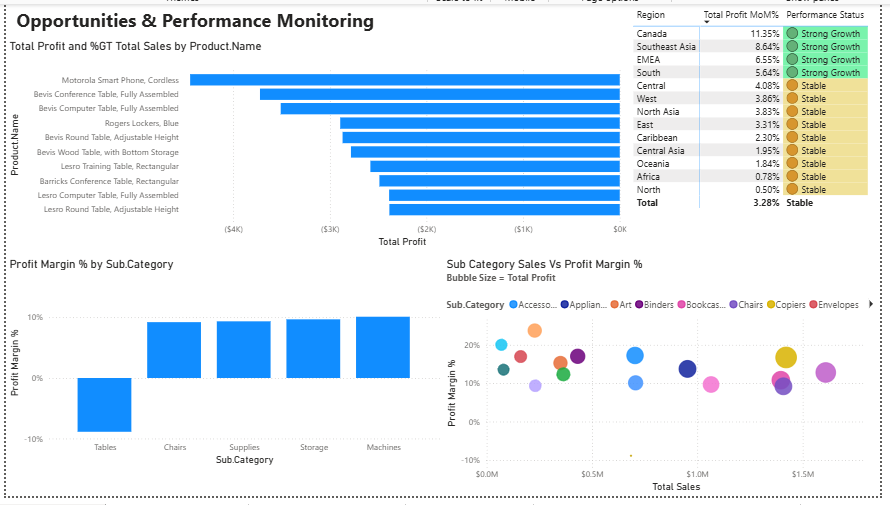

What the dashboard file says about the page in this screenshot:
{"tool":"powerbi","page":{"name":"Opportunities & Performance Monitoring","canvas":[1280,720],"ordinal":3},"visuals":[{"type":"textbox","box":[10.2,0,570.7,51.2],"z":0},{"type":"clusteredBarChart","fields":{"Y":["_Measures.Total Profit"],"Category":["Dim_Product.Product.Name"]},"box":[0,51.2,913.2,308.8],"z":1000},{"type":"columnChart","fields":{"Y":["_Measures.Profit Margin %"],"Category":["Dim_Product.Sub.Category"]},"box":[0,370.2,639.5,308.8],"z":2000},{"type":"pivotTable","fields":{"Rows":["Dim_Geography.Region"],"Values":["_Measures.Total Profit MoM%","_Measures.Performance Status"]},"box":[913.2,0,367.3,360],"z":3000},{"type":"scatterChart","title":"Sub Category Sales Vs Profit Margin %","fields":{"X":["_Measures.Total Sales"],"Y":["_Measures.Profit Margin %"],"Series":["Dim_Product.Sub.Category"],"Size":["_Measures.Total Profit"]},"box":[639.5,370.2,641,349.8],"z":4000}]}

Visuals, with their boxes in screenshot pixels (x1, y1, x2, y2), scaled from the page's 1280x720 canvas onto the 890x505 screenshot:
textbox: detection(7, 0, 404, 36)
clusteredBarChart - _Measures.Total Profit x Dim_Product.Product.Name: detection(0, 36, 635, 252)
columnChart - _Measures.Profit Margin % x Dim_Product.Sub.Category: detection(0, 260, 445, 476)
pivotTable - Dim_Geography.Region x _Measures.Total Profit MoM%: detection(635, 0, 889, 252)
"Sub Category Sales Vs Profit Margin %" scatterChart: detection(445, 260, 889, 504)
